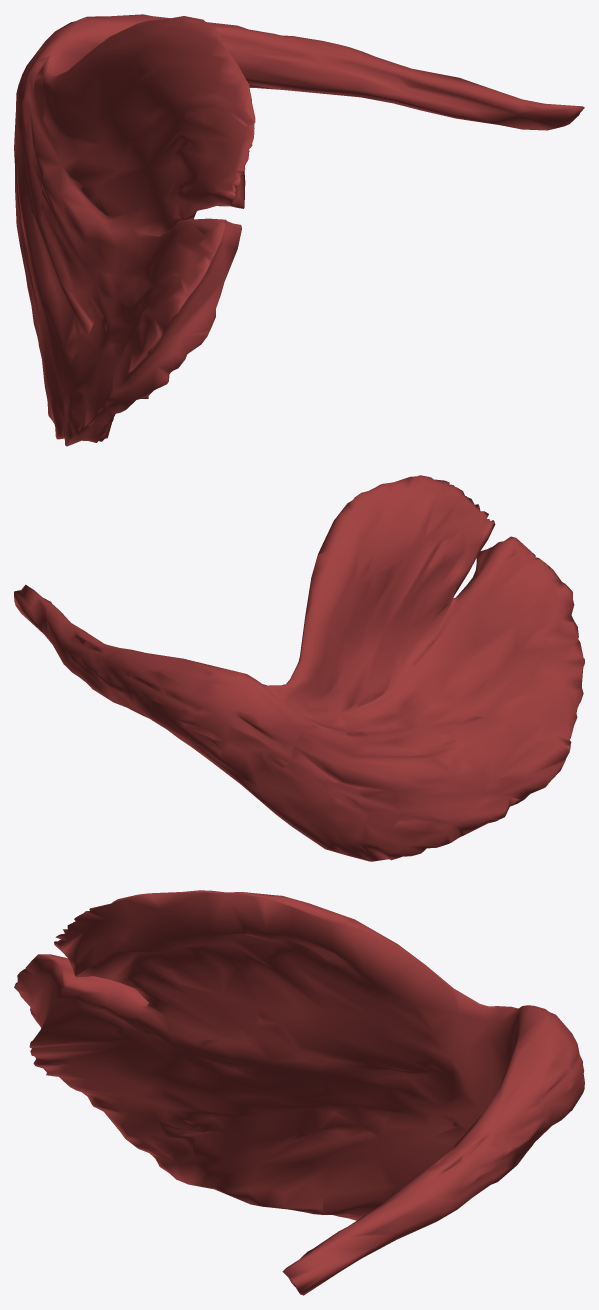
Rendered from obturator-internus-l.glb.
3 views of the same model, one above another, from view 1: azimuth 30°, elevation 25°; view 2: azimuth 150°, elevation 25°; view 3: azimuth 270°, elevation 25° (orthographic). The views are drawn at different scales.
Parts seen in each view (by area): view 1: Obturator internus.l; view 2: Obturator internus.l; view 3: Obturator internus.l.
Boxes of the visible parts, x1=… form: Obturator internus.l: x1=14, y1=14, x2=584, y2=446; Obturator internus.l: x1=14, y1=475, x2=584, y2=861; Obturator internus.l: x1=14, y1=890, x2=584, y2=1295.
Size of the model in its own units: 0.0977 by 0.0598 by 0.0816.
